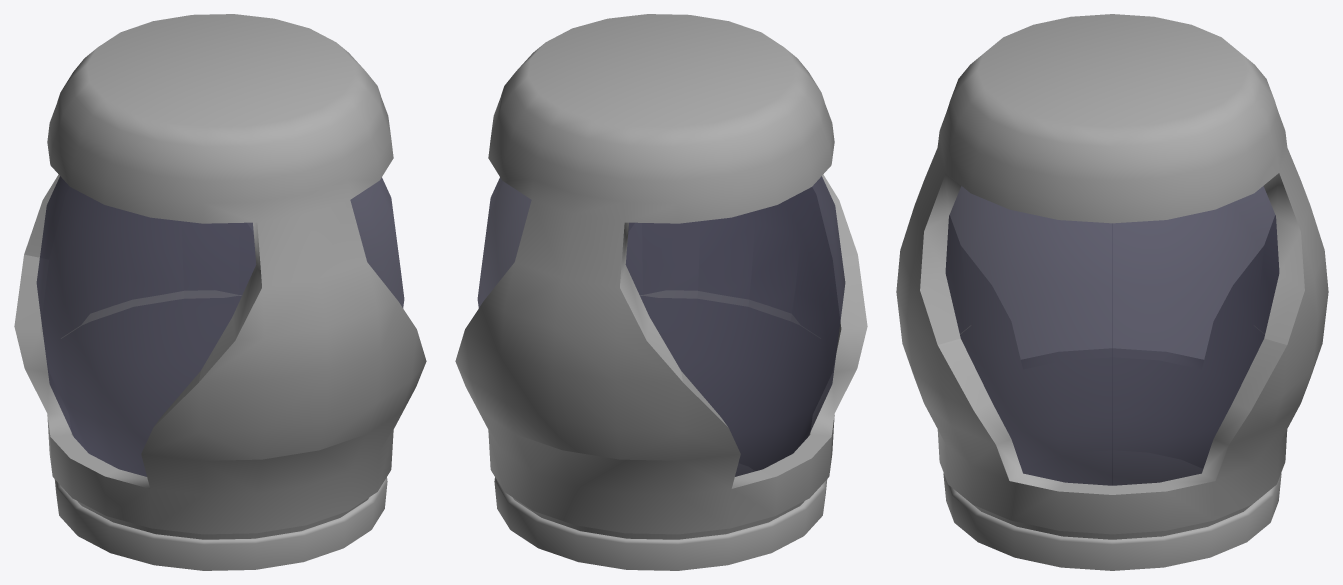
File: Environment_Barrel_003_Blockout.fbx
3 renders of one model, left to right at view 1: azimuth 30°, elevation 25°; view 2: azimuth 150°, elevation 25°; view 3: azimuth 270°, elevation 25°, orthographic.
Visible parts, largest first — view 1: polySurface39; view 2: polySurface39; view 3: polySurface39.
Part boxes in pixels (<box>): polySurface39: <box>14,14,426,570</box>; polySurface39: <box>455,14,867,570</box>; polySurface39: <box>896,14,1328,570</box>.
Size of the model in its own units: 161 by 207 by 189.
